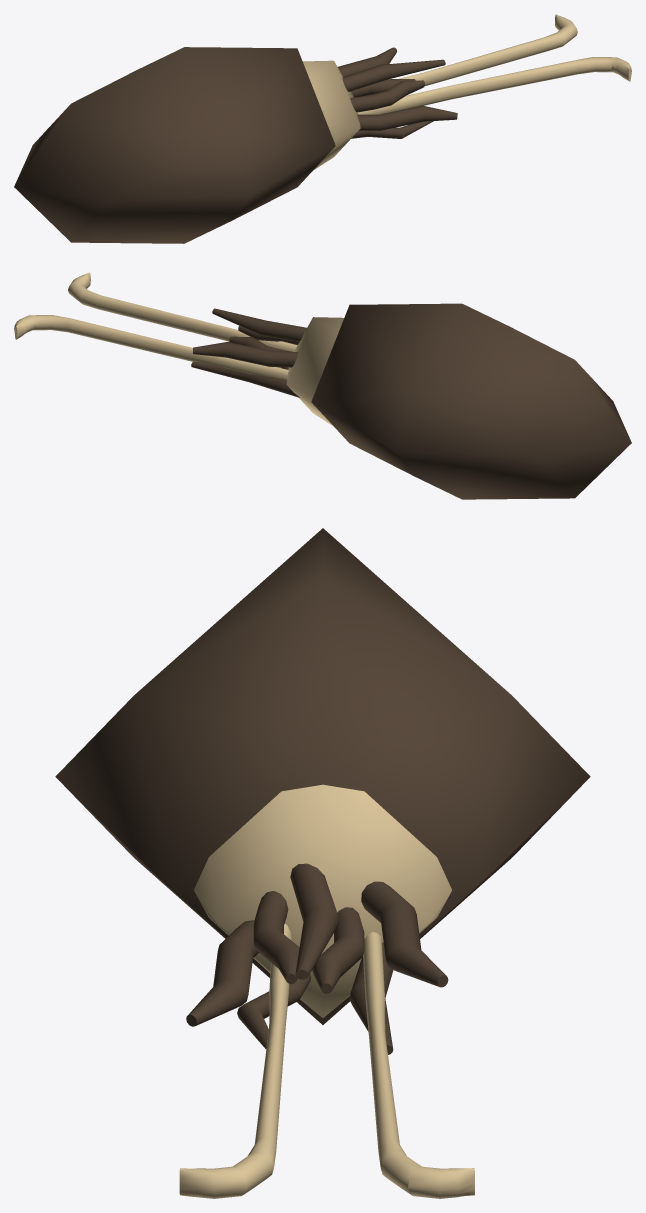
File: 20c65bdb-4885-4bc3-a5f3-555b05d5246a.glb
3 renders of one model, top to bottom at view 1: azimuth 30°, elevation 25°; view 2: azimuth 150°, elevation 25°; view 3: azimuth 270°, elevation 25°, orthographic. The views are drawn at different scales.
Visible parts, largest first — view 1: GeoSphere001, Line011, GeoSphere002, Line010, Line009, Line003, Line006, Line001, Line004, Line005; view 2: GeoSphere001, Line010, Line011, GeoSphere002, Line001, Line003, Line008, Line005; view 3: GeoSphere001, GeoSphere002, Line010, Line011, Line001, Line009, Line003, Line006, Line005, Line004, Line008.
Part boxes in pixels (x1,y1,x2,y2): GeoSphere001: (14, 47, 335, 243); Line011: (357, 57, 631, 114); GeoSphere002: (302, 60, 360, 170); Line010: (399, 14, 577, 86); Line009: (357, 105, 457, 130); Line003: (342, 59, 445, 91); Line006: (350, 80, 424, 112); Line001: (337, 47, 396, 77); Line004: (351, 121, 433, 138); Line005: (351, 79, 415, 97); GeoSphere001: (311, 303, 631, 499); Line010: (14, 315, 288, 379); Line011: (68, 272, 297, 351); GeoSphere002: (286, 317, 343, 426); Line001: (193, 342, 298, 367); Line003: (212, 308, 306, 342); Line008: (191, 361, 299, 397); Line005: (229, 336, 290, 351); GeoSphere001: (55, 528, 590, 1024); GeoSphere002: (194, 784, 451, 1017); Line010: (363, 931, 474, 1198); Line011: (179, 923, 291, 1198); Line001: (361, 881, 448, 987); Line009: (186, 920, 258, 1026); Line003: (290, 863, 339, 979); Line006: (253, 891, 299, 984); Line005: (312, 907, 364, 993); Line004: (237, 974, 311, 1049); Line008: (349, 942, 393, 1054).
Bounding box in the file's own units: 84.87 × 27.1 × 33.54.
